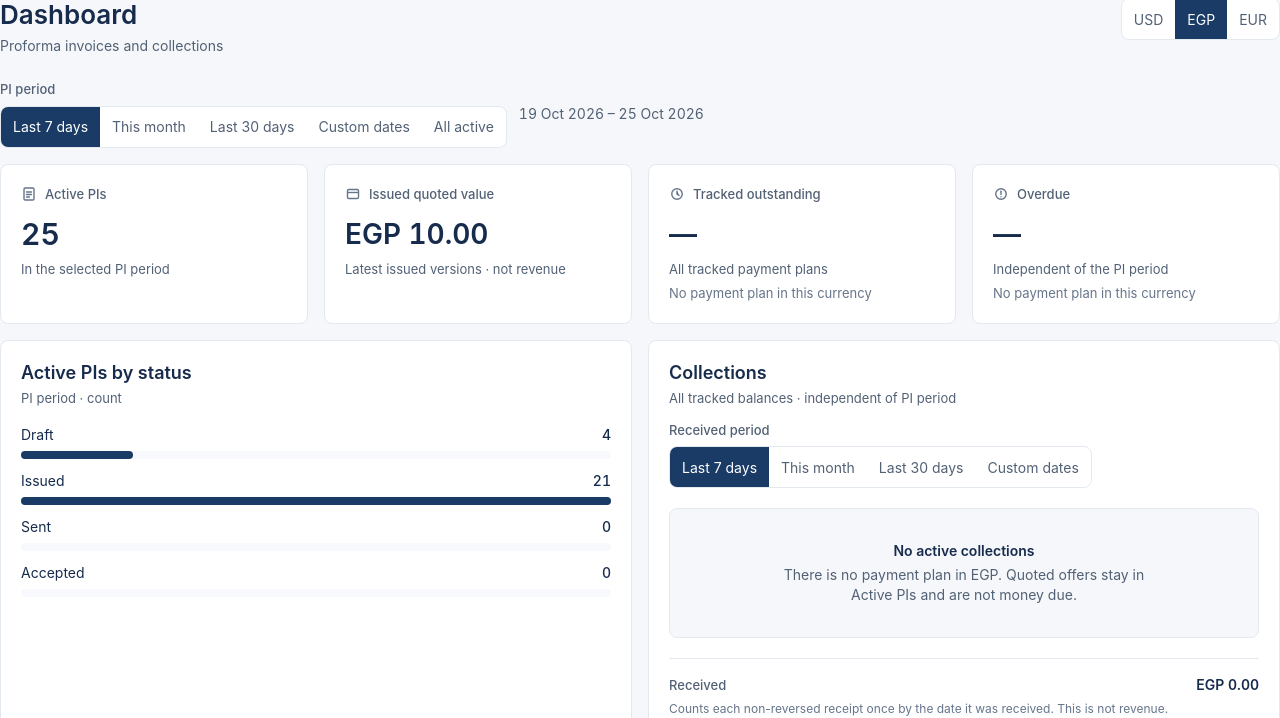
Test: dashboard currency, filters, and figures › chooses a currency with visible activity once, then leaves that choice in the address
The width and height of the screenshot is (1280, 718).
Click the button "This month" in the row of "19 Oct 2026 – 25 Oct 2026": (149, 126) [100,106,198,146]
(page scrolled)
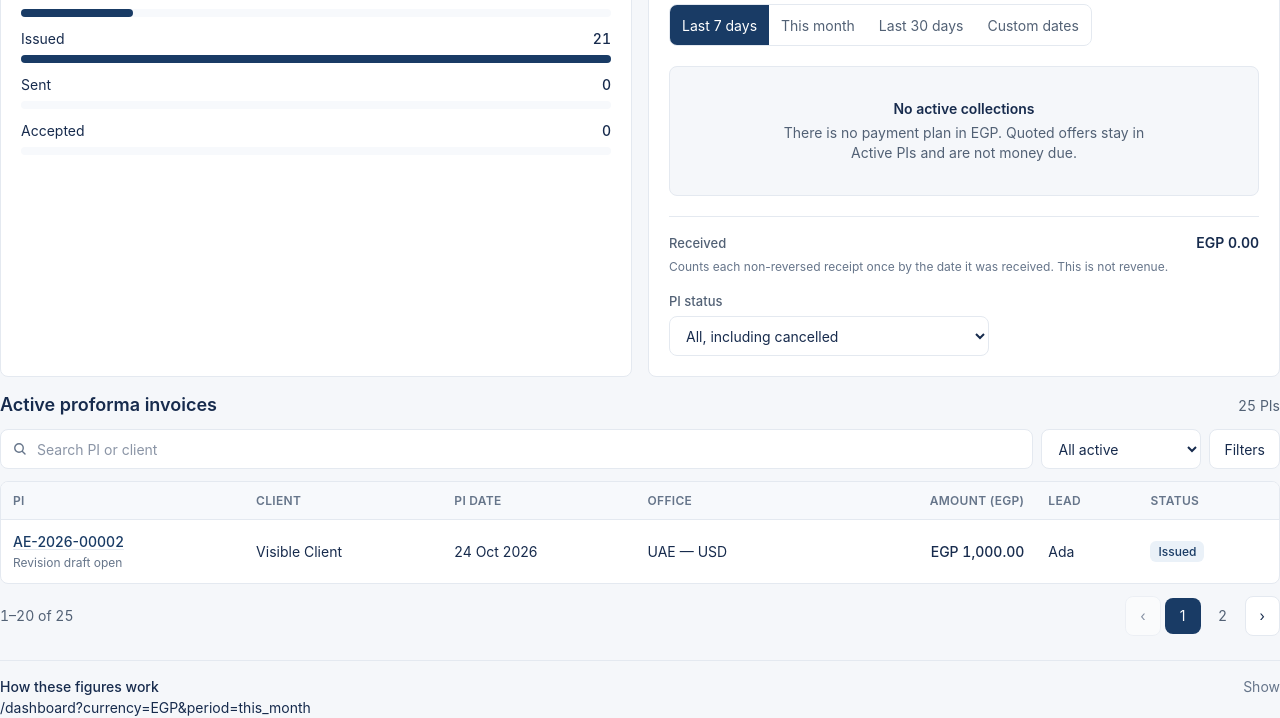
Expected: the text with test id "location" shows "currency=EGP", [0,699,311,716]
Expected: the text with test id "location" shows "period=this_month", [0,699,311,716]
